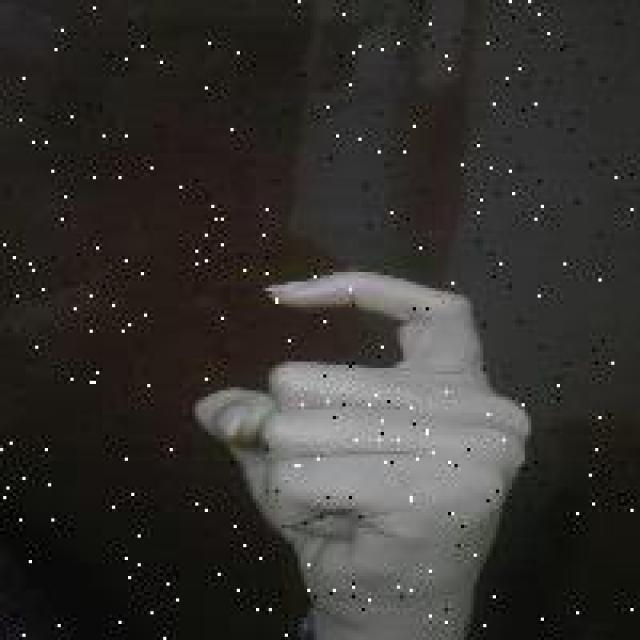X: (182, 267, 538, 610)
